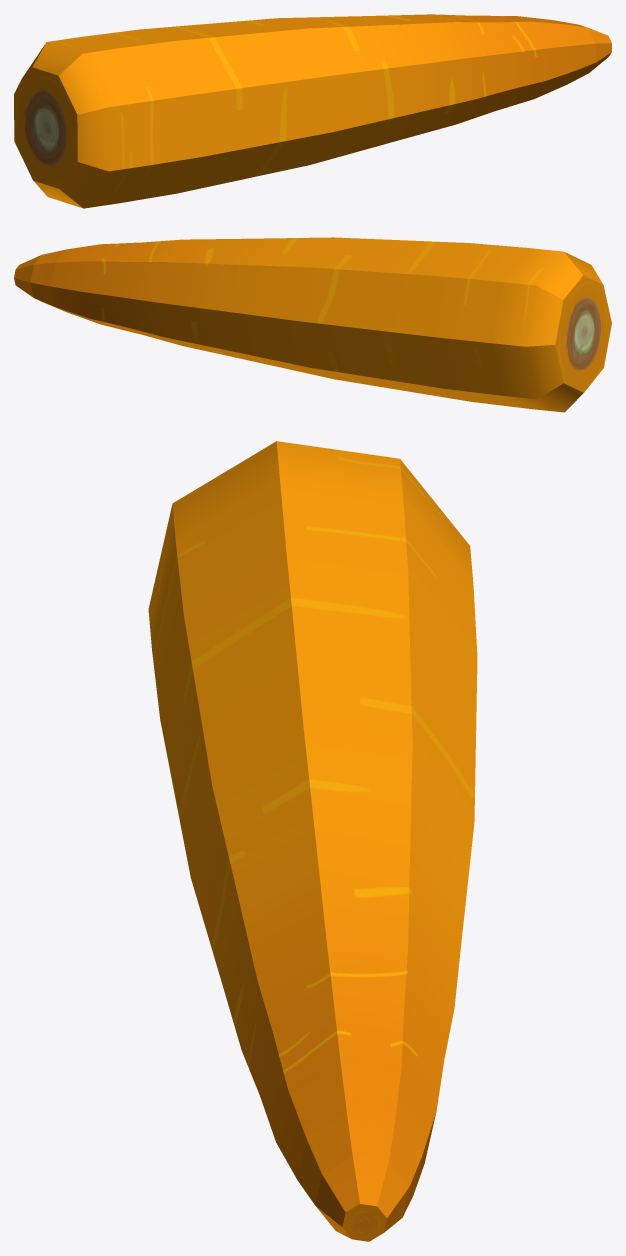
Rendered from carrot01.fbx.
3 renders of one model, top to bottom at view 1: azimuth 30°, elevation 25°; view 2: azimuth 150°, elevation 25°; view 3: azimuth 270°, elevation 25°, orthographic. The views are drawn at different scales.
Parts seen in each view (by area): view 1: caloto; view 2: caloto; view 3: caloto.
Boxes of the visible parts, x1,y1,x2,y2 form: caloto: (14, 14, 611, 208); caloto: (14, 237, 611, 412); caloto: (148, 441, 477, 1241).
Bounding box in the file's own units: 48.23 × 13.62 × 12.32.
1 material, 1 textured.
